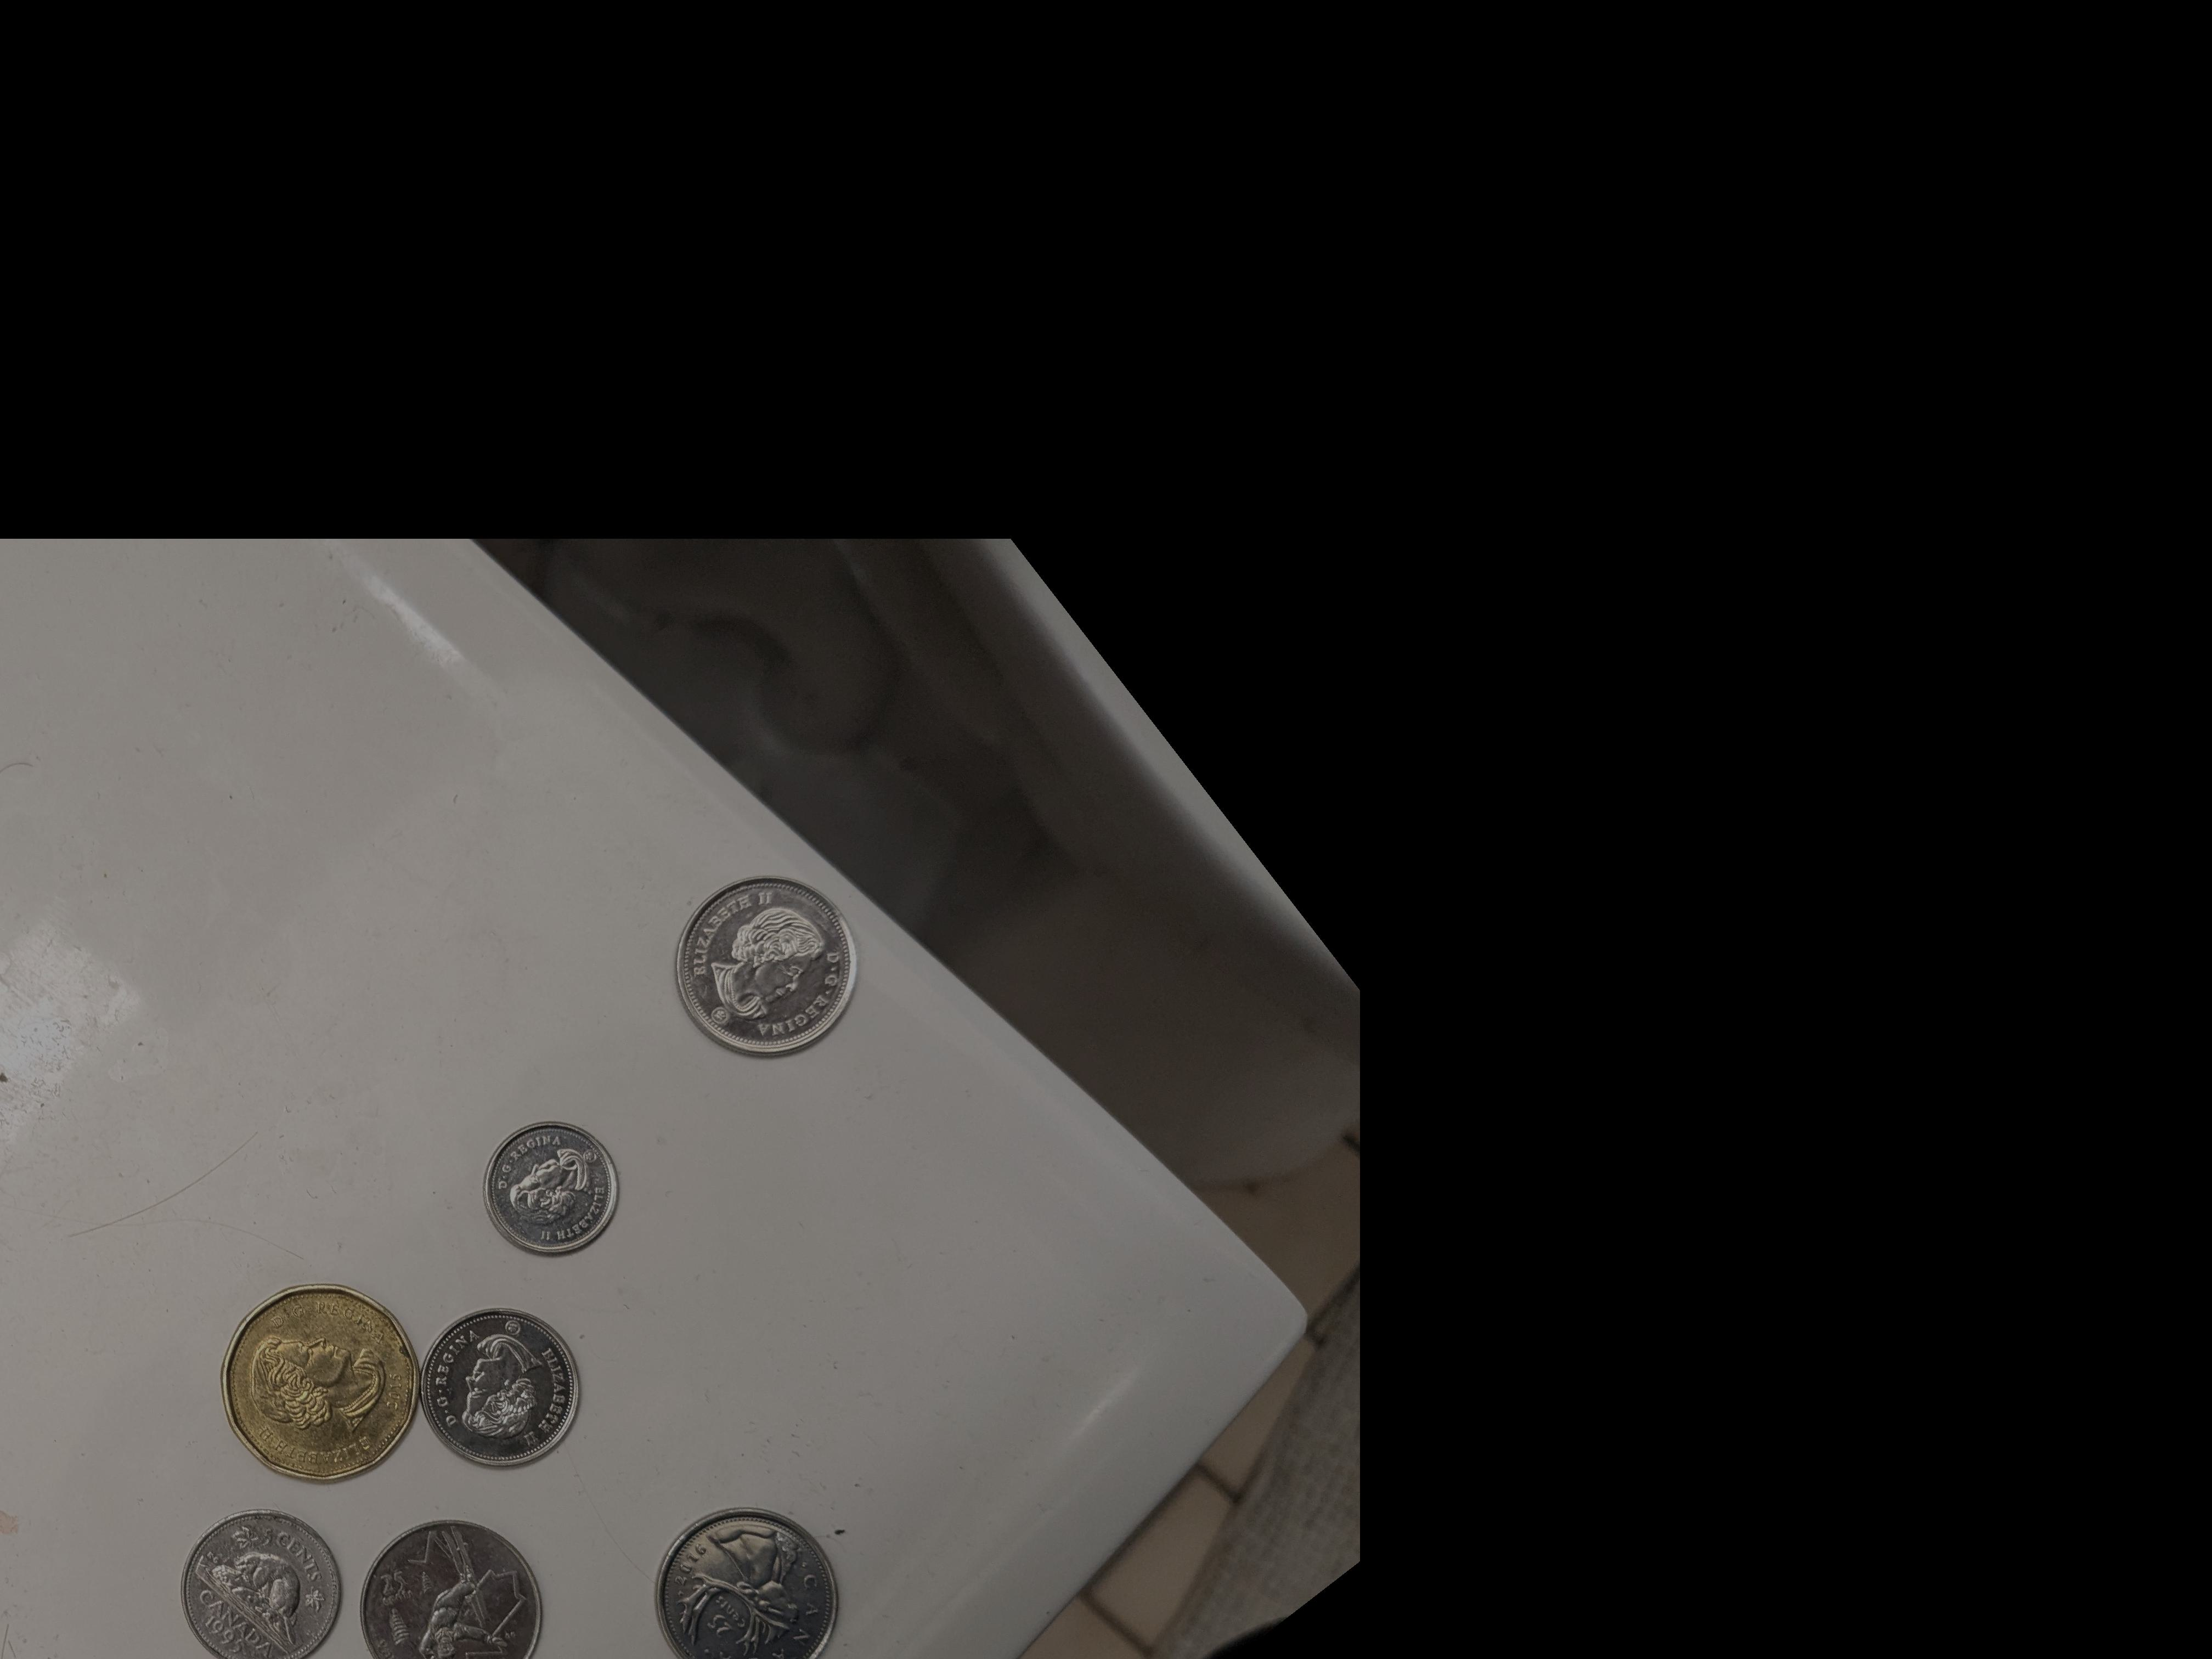dime: (488, 1121, 620, 1258)
loonie: (226, 1284, 420, 1486)
nickel: (178, 1506, 345, 1657), (430, 1312, 583, 1467)
quarter: (679, 880, 855, 1058), (650, 1507, 848, 1659), (359, 1520, 543, 1659)
